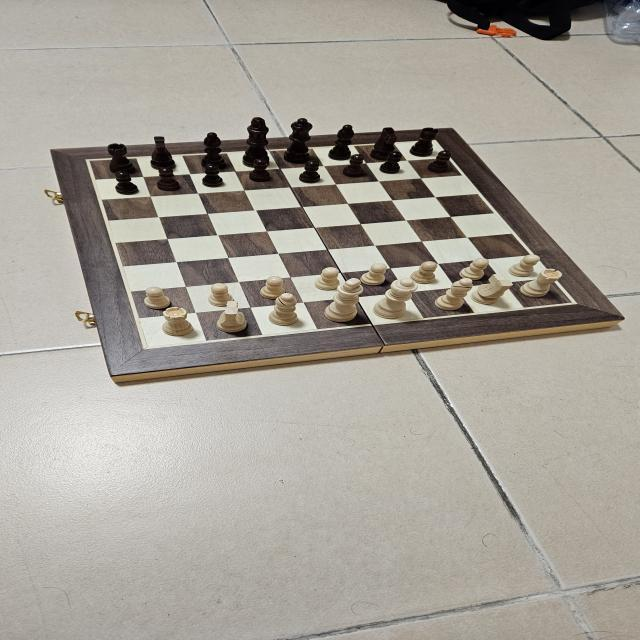chess-table-corners: (566, 300, 581, 308), (138, 344, 155, 351), (82, 158, 95, 163), (433, 140, 439, 142)
